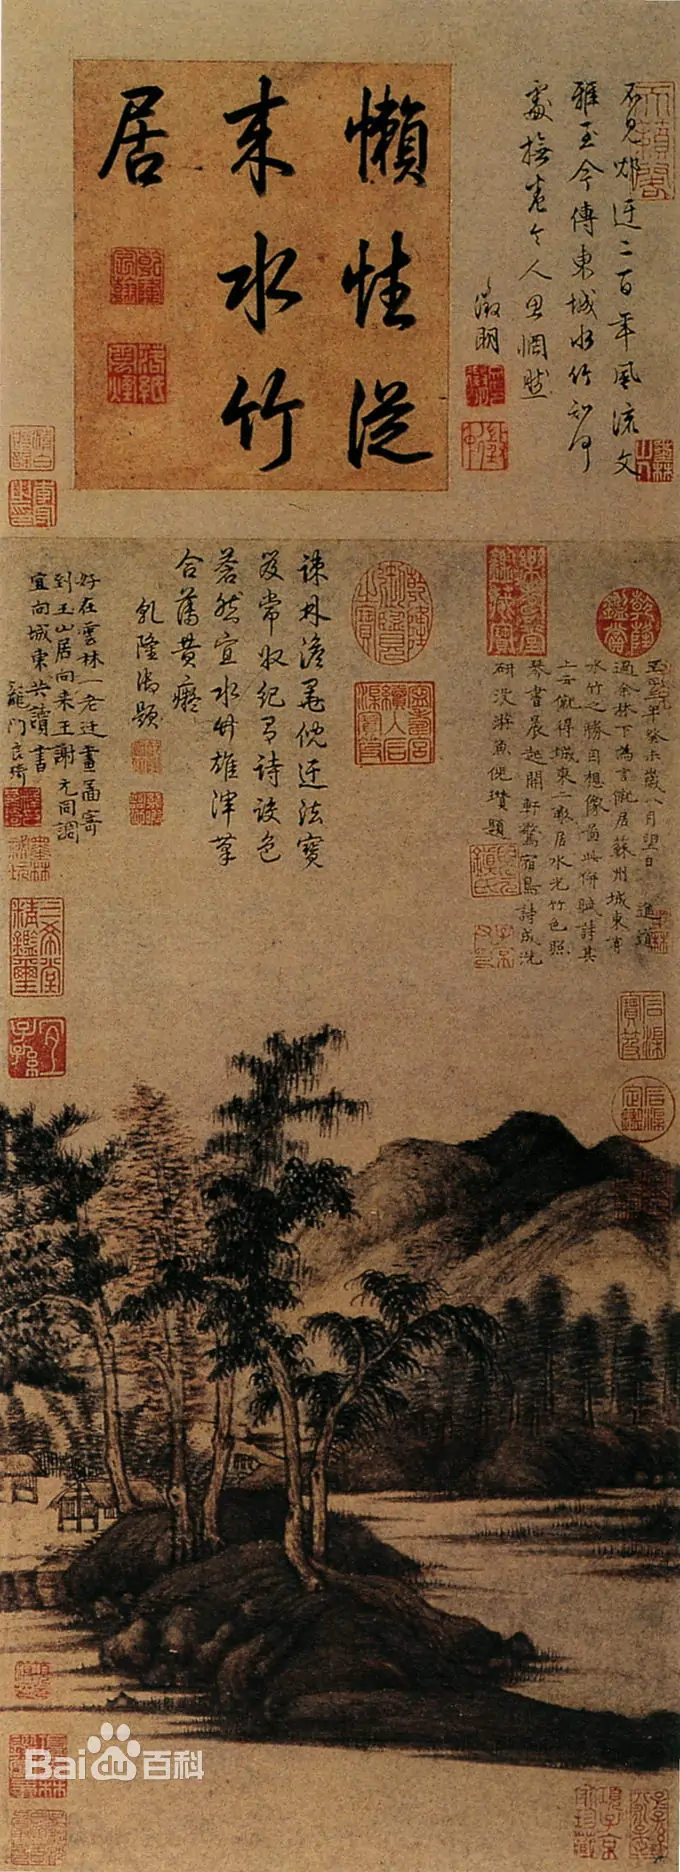house: (52, 1461, 126, 1557)
mountain: (382, 1113, 680, 1276)
rock: (128, 1485, 456, 1757)
tree: (10, 1100, 217, 1568), (214, 1028, 384, 1585), (367, 1291, 680, 1414)
